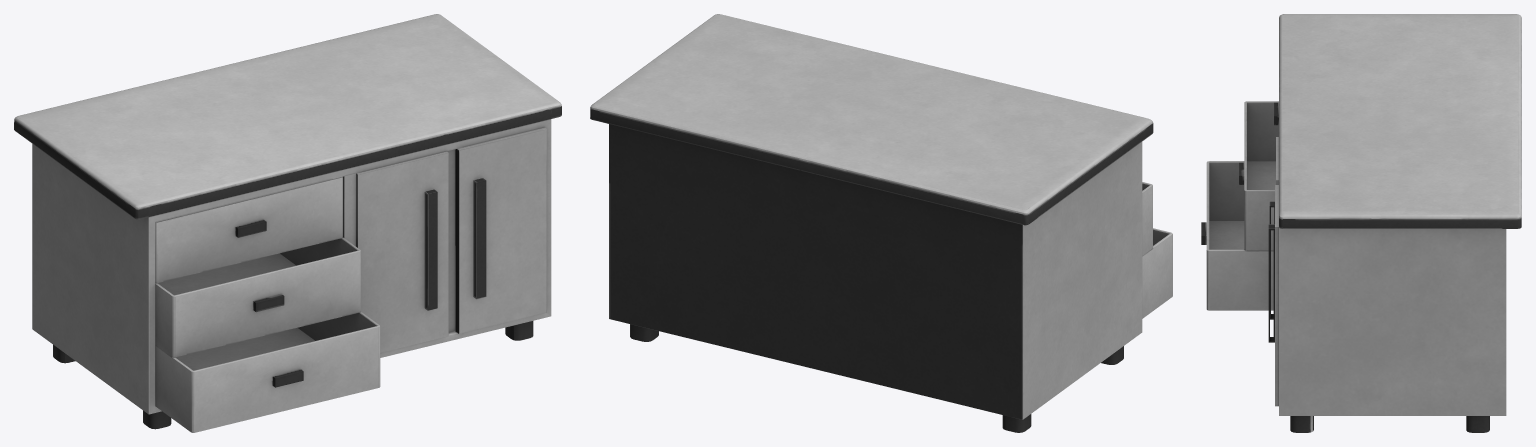
Rendered from tablewithshelves.fbx.
3 views of the same model, side by side, from view 1: azimuth 30°, elevation 25°; view 2: azimuth 150°, elevation 25°; view 3: azimuth 270°, elevation 25° (orthographic). The views are drawn at different scales.
Parts seen in each view (by area): view 1: tablepart.002, tableshelf.003, door.002, door.003, tableshelf.004, tableshelf.005, table_holder.001, tablepart.003; view 2: tablepart.002, tableshelf.003, table_holder.001, tableshelf.004; view 3: tablepart.002, tableshelf.003, tableshelf.004, door.002, table_holder.001, door.003.
Boxes of the visible parts, x1,y1,x2,y2 form: tablepart.002: (14,14,561,414); tableshelf.003: (155,312,380,432); door.002: (455,127,546,333); door.003: (356,151,448,352); tableshelf.004: (155,237,360,357); tableshelf.005: (155,176,342,283); table_holder.001: (53,321,533,429); tablepart.003: (343,173,355,246); tablepart.002: (590,14,1153,419); tableshelf.003: (1142,228,1172,318); table_holder.001: (630,324,1123,432); tableshelf.004: (1142,182,1152,255); tablepart.002: (1279,14,1521,415); tableshelf.003: (1201,161,1273,310); tableshelf.004: (1239,101,1278,250); door.002: (1268,185,1278,406); table_holder.001: (1290,416,1489,432); door.003: (1269,137,1278,319).
Bounding box in the file's own units: 374 × 195 × 249.
